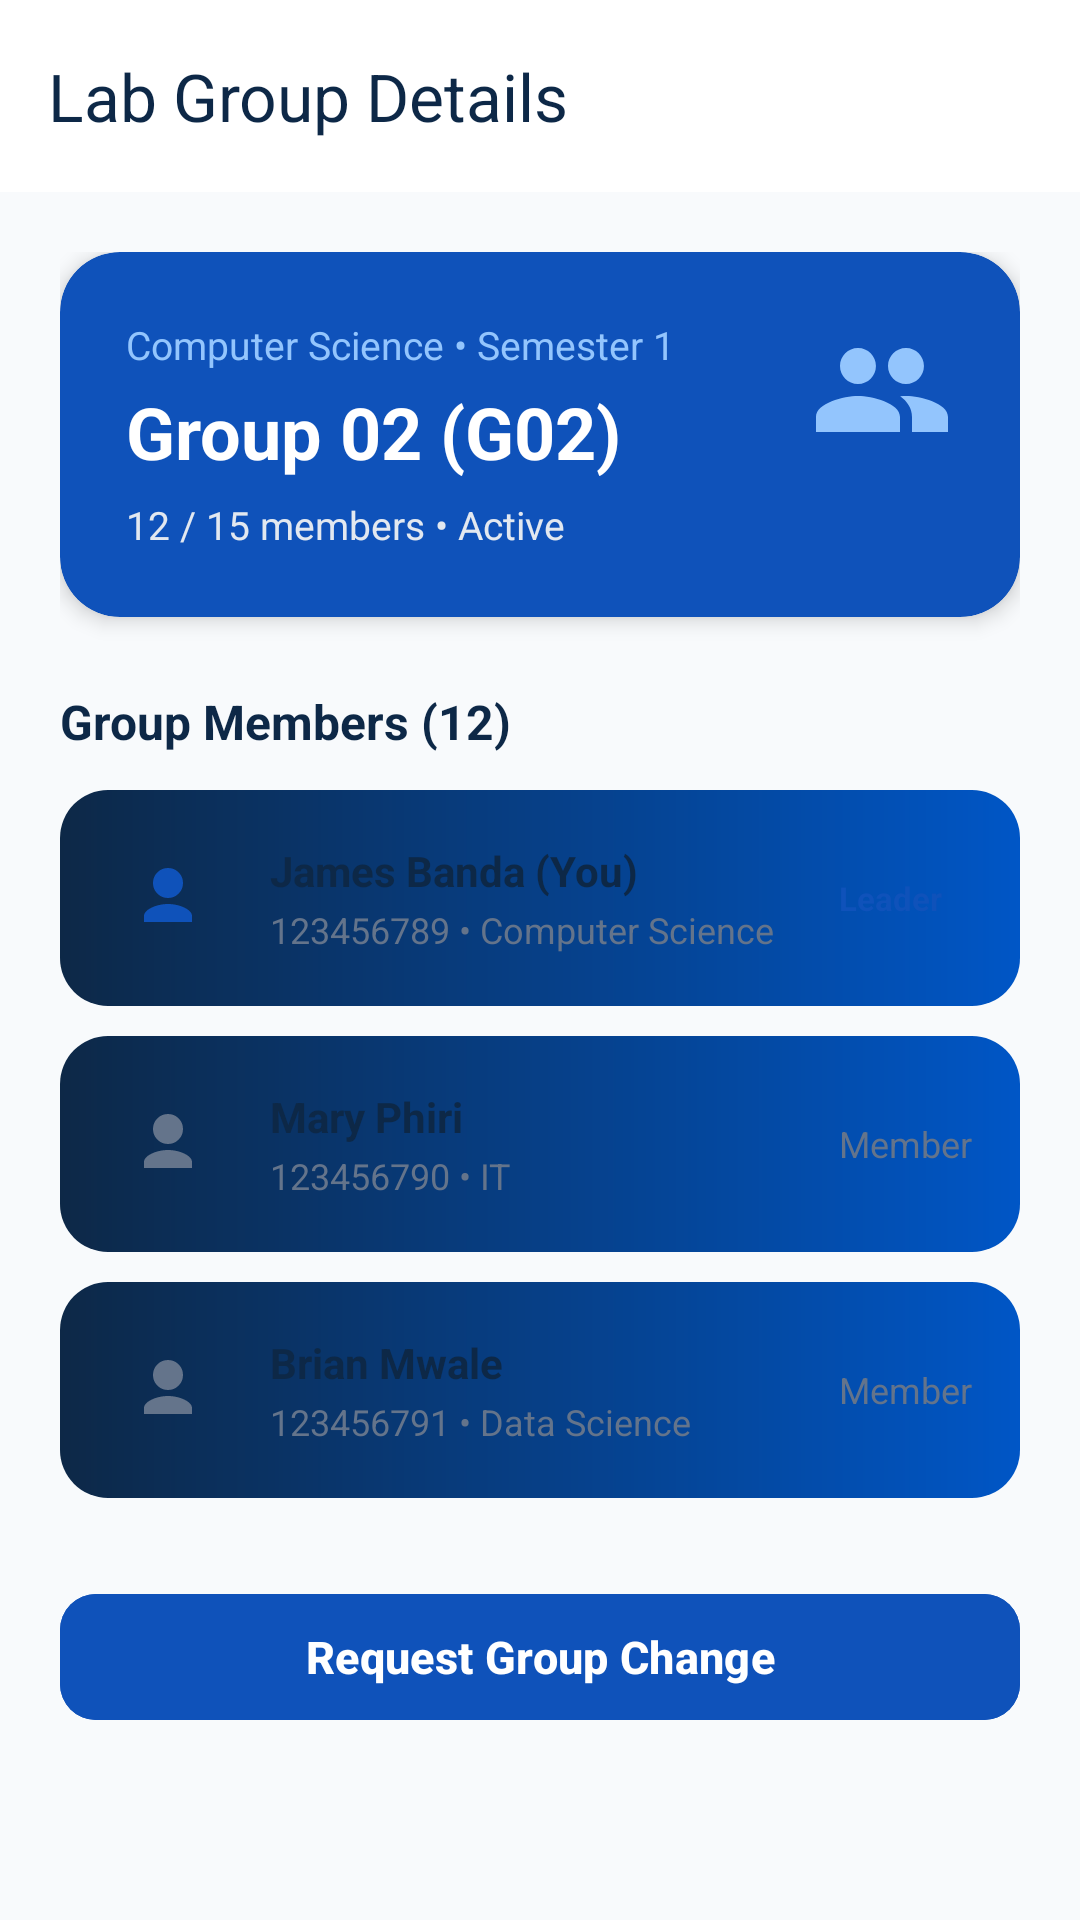

Named icons in this screenshot (1080×1920) and their bounding boxes, (x1, y1, x2, y2):
group users: (816, 348, 948, 432)
person head: (144, 868, 192, 922), (144, 1114, 192, 1168), (144, 1360, 192, 1414)
